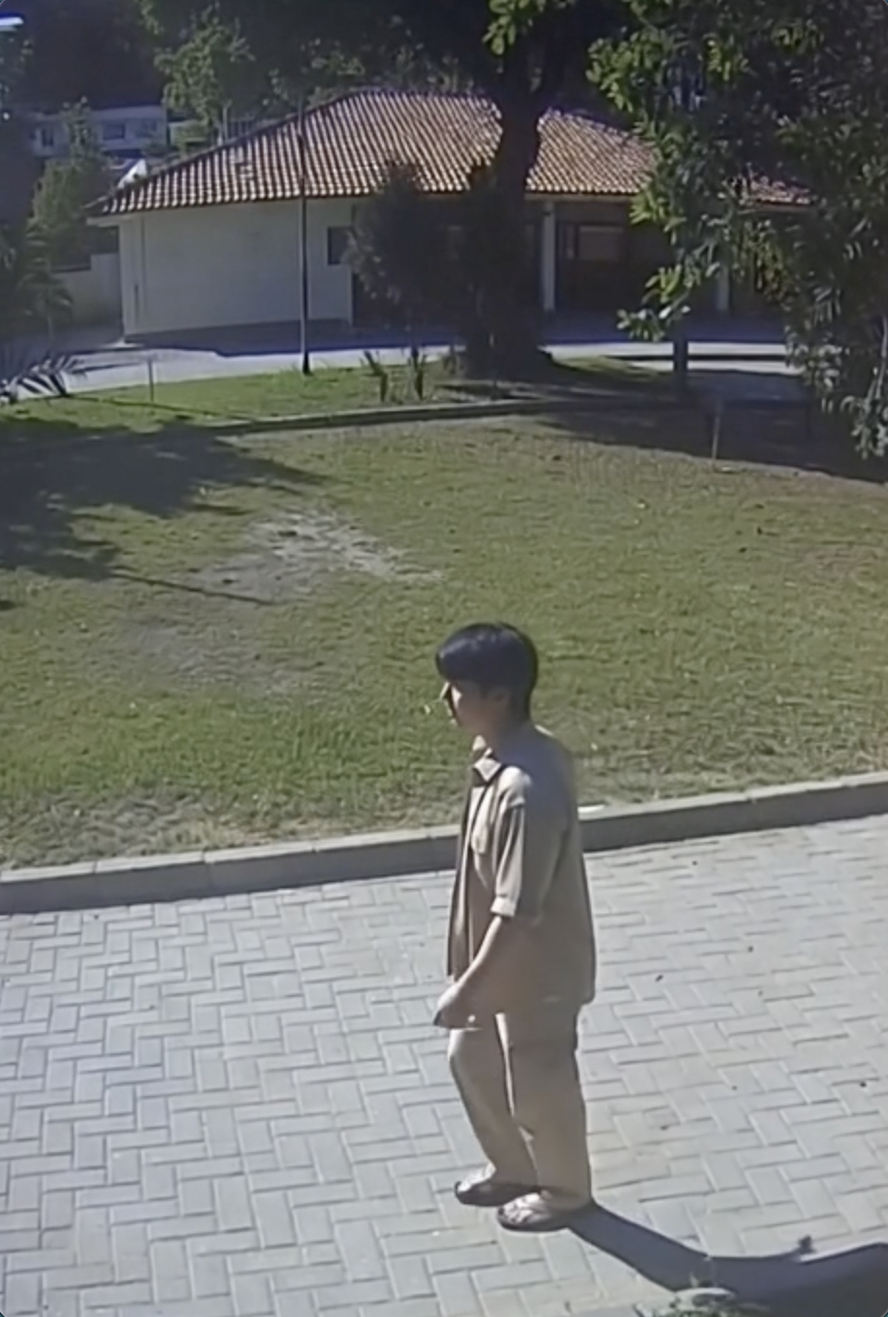Heavy Gun: (427, 619, 603, 1233)
